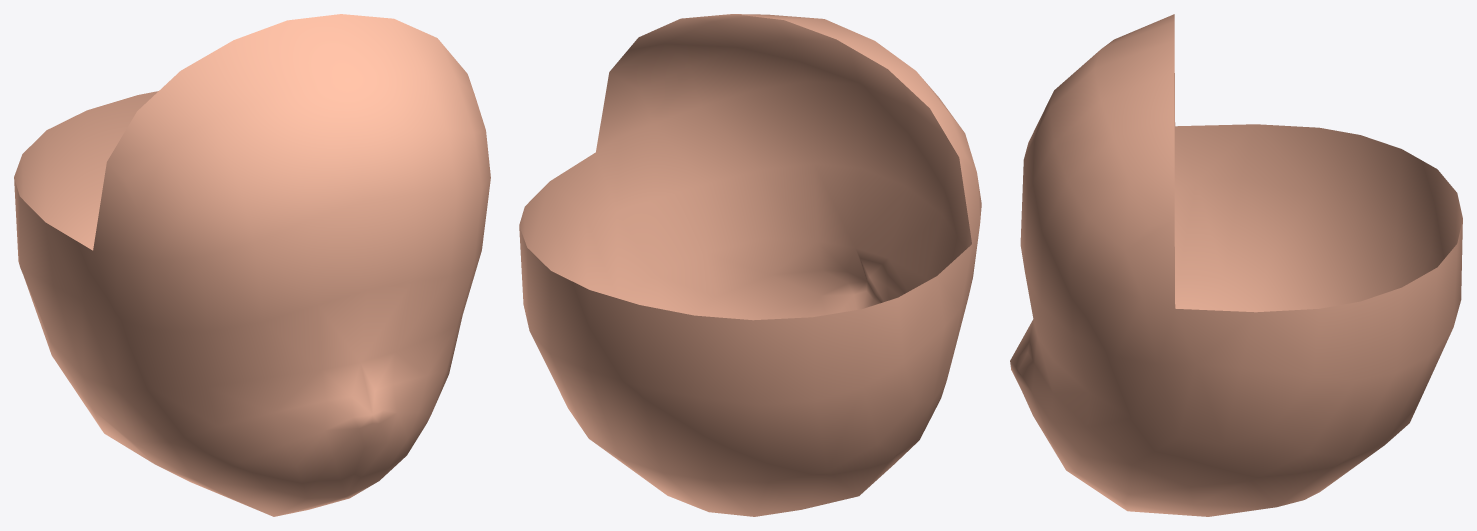
The picture shows the model from 3 angles, left to right: view 1: azimuth 30°, elevation 25°; view 2: azimuth 150°, elevation 25°; view 3: azimuth 270°, elevation 25°; orthographic projection. The views are drawn at different scales.
Parts seen in each view (by area): view 1: AF_M_Face_08; view 2: AF_M_Face_08; view 3: AF_M_Face_08.
Boxes of the visible parts, bbox=[...] form: AF_M_Face_08: bbox=[14, 14, 490, 516]; AF_M_Face_08: bbox=[519, 14, 981, 516]; AF_M_Face_08: bbox=[1010, 14, 1462, 516].
Bounding box in the file's own units: 649 × 737 × 661.
1 material, 1 textured.
